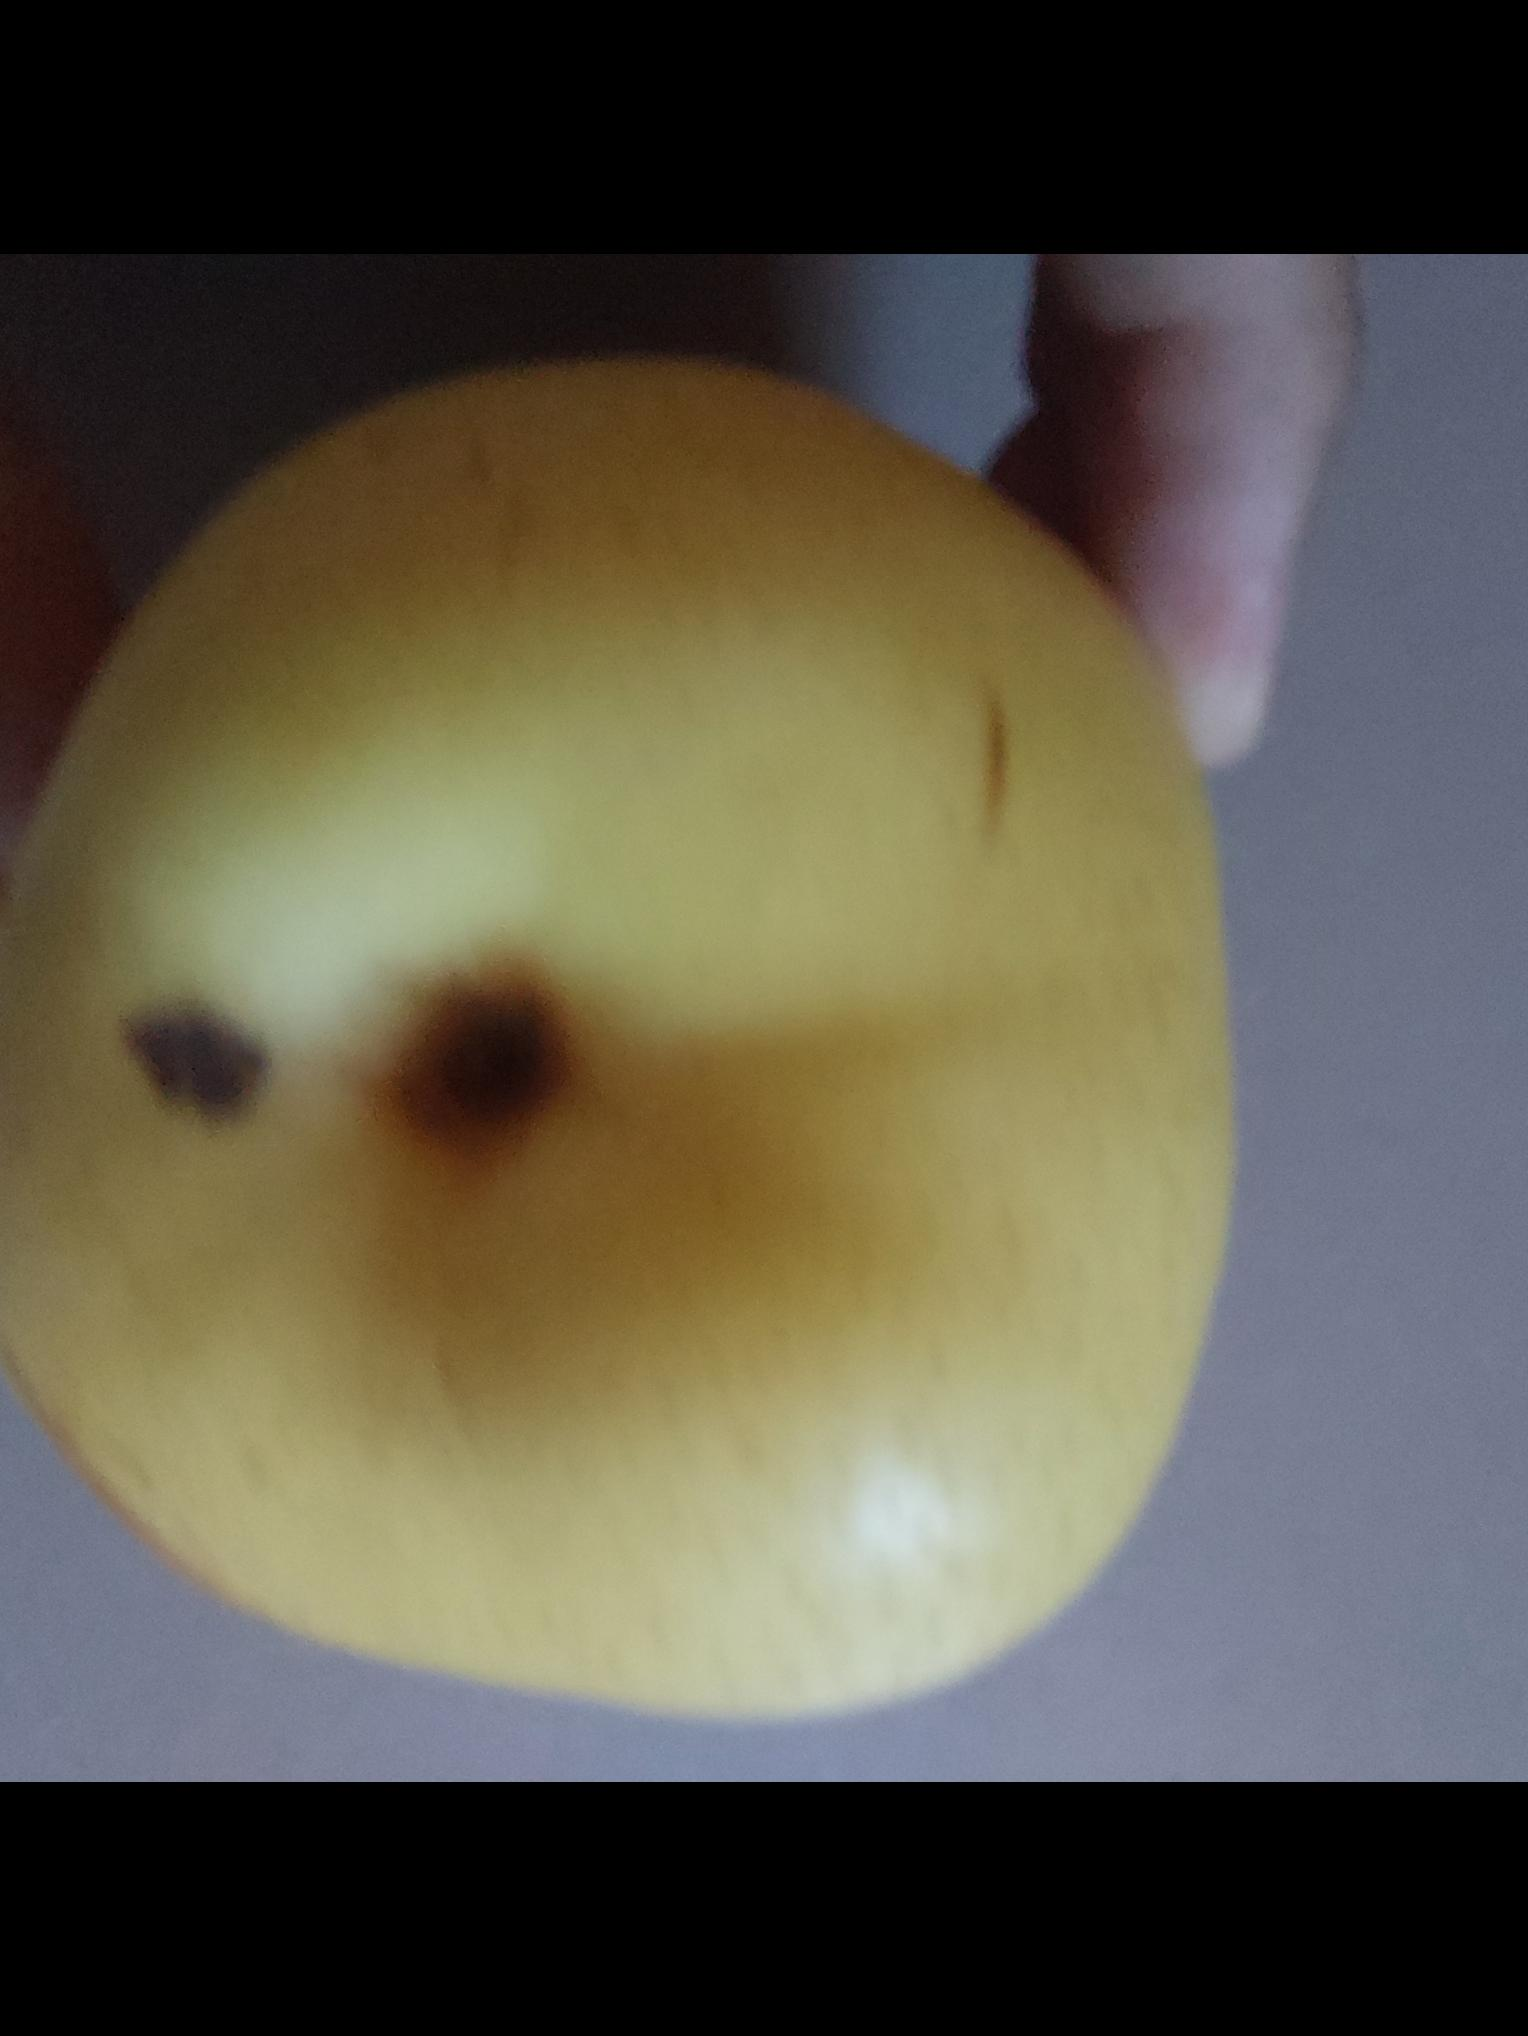Good Pear: (0, 356, 1221, 1734)
